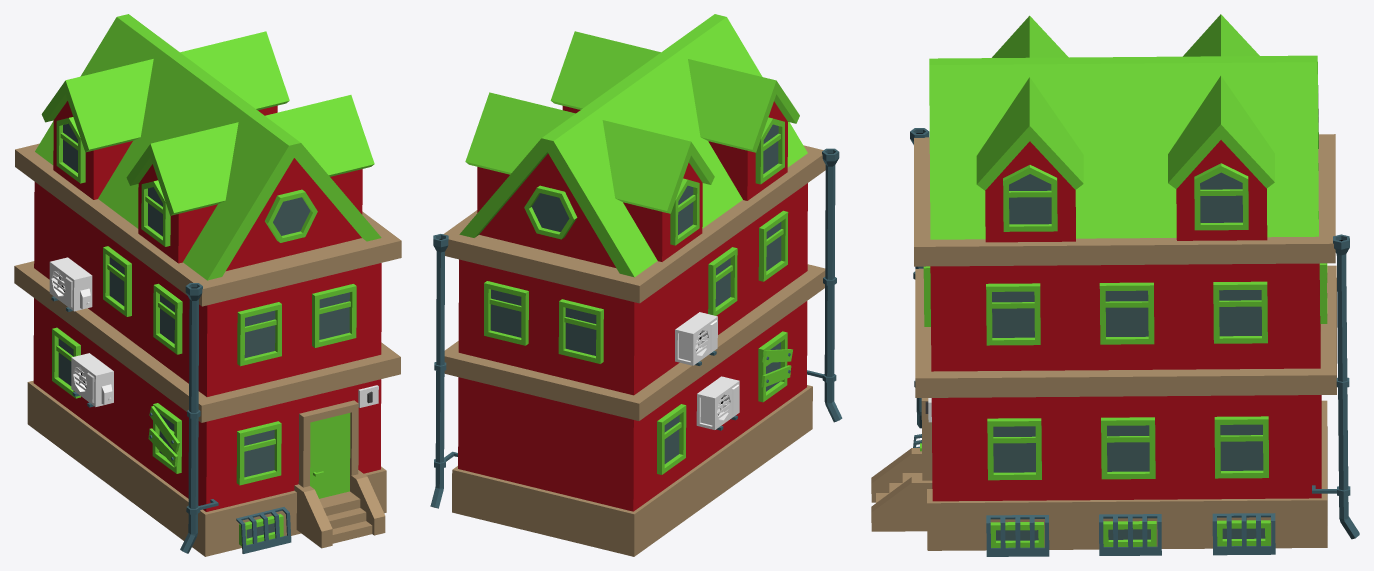
Rendered from Tutorial_redhouse.fbx.
The picture shows the model from 3 angles, left to right: view 1: azimuth 30°, elevation 25°; view 2: azimuth 150°, elevation 25°; view 3: azimuth 270°, elevation 25°; orthographic projection. The views are drawn at different scales.
Parts seen in each view (by area): view 1: Box15824, Box15824.001; view 2: Box15824, Box15824.001; view 3: Box15824, Box15824.001.
Boxes of the visible parts, x1=… form: Box15824: x1=14, y1=17, x2=401, y2=556; Box15824.001: x1=51, y1=14, x2=378, y2=535; Box15824: x1=430, y1=17, x2=842, y2=556; Box15824.001: x1=542, y1=14, x2=795, y2=413; Box15824: x1=871, y1=14, x2=1359, y2=556; Box15824.001: x1=914, y1=16, x2=1317, y2=436.
Bounding box in the file's own units: 531 × 903 × 903.
